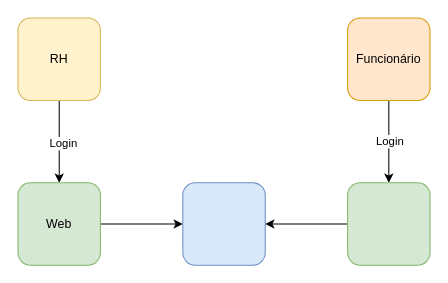
This 448x283 diagram has some shape labels left out. The shapes that lost their labels are listed below. From the top down, each one's box as (x1, y1, x2, y2) in pixels, then its label:
(182, 182, 265, 265): API
(347, 182, 430, 265): Mobile
